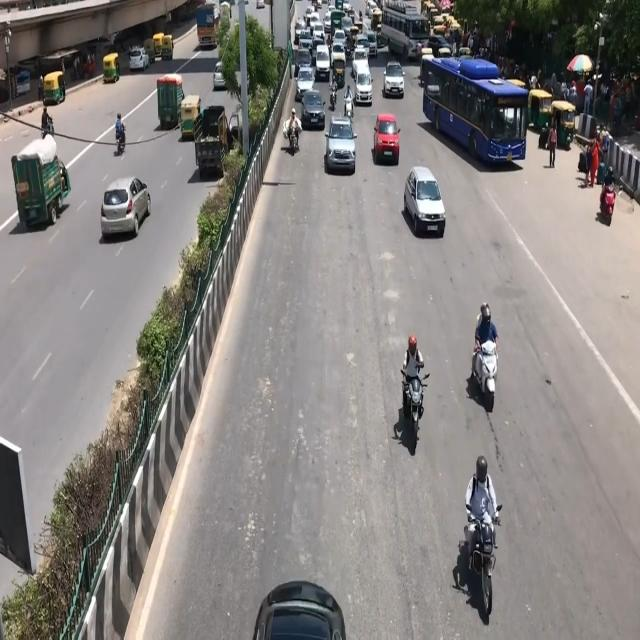Bike: (467, 455, 515, 627), (386, 324, 442, 467)
Bus: (411, 58, 537, 156)
Scooty: (470, 293, 515, 425)
